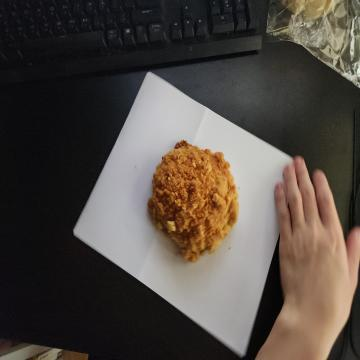soboru_bread: (144, 138, 241, 265)
